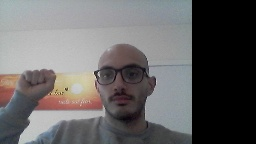Pugno: (12, 68, 57, 103)
